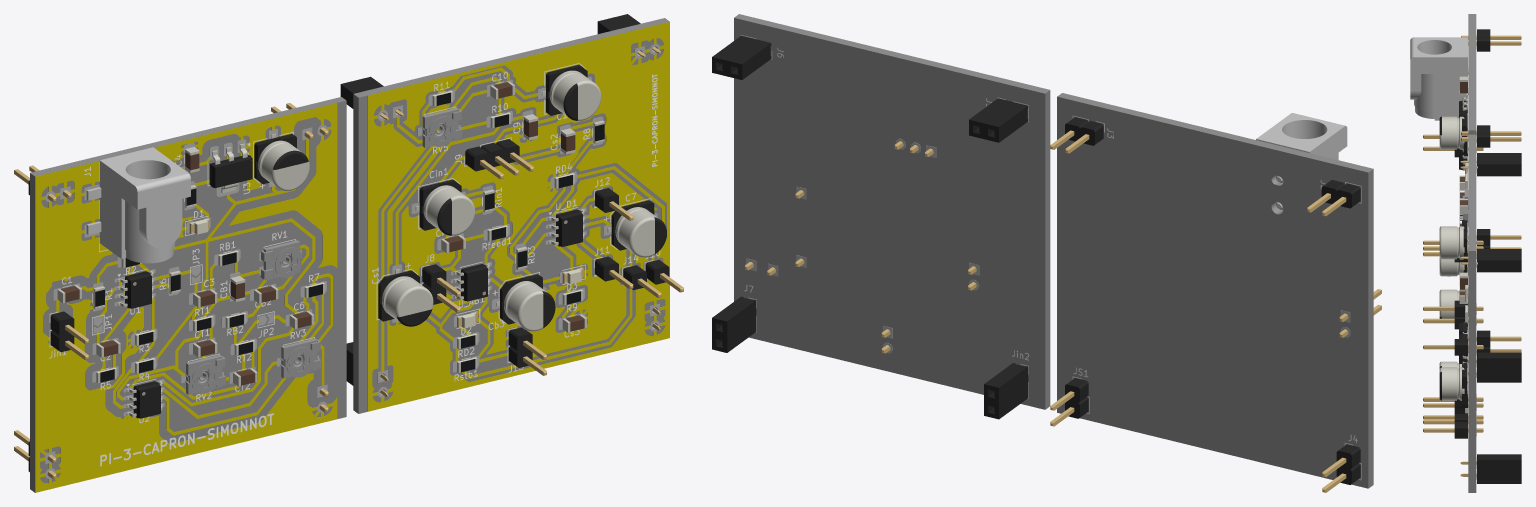
The model's file is amplificateur.glb.
The picture shows the model from 3 angles, left to right: view 1: azimuth 30°, elevation 25°; view 2: azimuth 150°, elevation 25°; view 3: azimuth 270°, elevation 25°; orthographic projection. The views are drawn at different scales.
Parts seen in each view (by area): view 1: Body8, Body1_16, Body5, Body1_15, Body1_10, Body45, Body1_59, Body1_1, Body1_28, Body1_54, Body1_61, Body1_27 (+18 smaller); view 2: Body1_16, Body1_15, Body1_10, Body1_69, Body1_73, Body1_11, Body1_75, Body1_72, Body1_70, Body1_71, Body1_74; view 3: Body1_10, Body1_15, Body1_69, Body1_73, Body1_11, Body1_75, Body1_16, Body1_27, Body1_28, Body1_1, Body1_74, Body1_56 (+16 smaller).
Boxes of the visible parts, box(x1,y1,x2,y2) form: Body8: box(367, 22, 669, 411); Body1_16: box(30, 97, 346, 492); Body5: box(35, 103, 337, 492); Body1_15: box(353, 18, 669, 413); Body1_10: box(86, 147, 190, 263); Body45: box(138, 139, 315, 406); Body1_59: box(415, 179, 475, 235); Body1_1: box(254, 133, 309, 190); Body1_28: box(542, 64, 601, 120); Body1_54: box(496, 274, 555, 331); Body1_61: box(378, 269, 433, 326); Body1_27: box(607, 200, 666, 257); Body1_16: box(1057, 93, 1373, 488); Body1_15: box(734, 14, 1050, 409); Body1_10: box(1256, 113, 1347, 210); Body1_69: box(712, 296, 756, 352); Body1_73: box(984, 363, 1028, 419); Body1_11: box(712, 35, 771, 79); Body1_75: box(969, 98, 1028, 142); Body1_72: box(1322, 444, 1360, 492); Body1_70: box(1050, 378, 1088, 426); Body1_71: box(1307, 180, 1360, 216); Body1_74: box(1050, 117, 1103, 153); Body1_10: box(1410, 37, 1468, 120); Body1_15: box(1468, 134, 1476, 492); Body1_69: box(1460, 454, 1521, 483); Body1_73: box(1468, 352, 1521, 382); Body1_11: box(1460, 249, 1521, 272); Body1_75: box(1460, 153, 1521, 176); Body1_16: box(1468, 14, 1476, 134); Body1_27: box(1439, 363, 1467, 406); Body1_28: box(1439, 220, 1467, 262); Body1_1: box(1439, 110, 1467, 153); Body1_74: box(1461, 125, 1521, 147); Body1_56: box(1423, 300, 1483, 329).
Bounding box in the file's own units: 0.1067 × 0.0509 × 0.0212.
